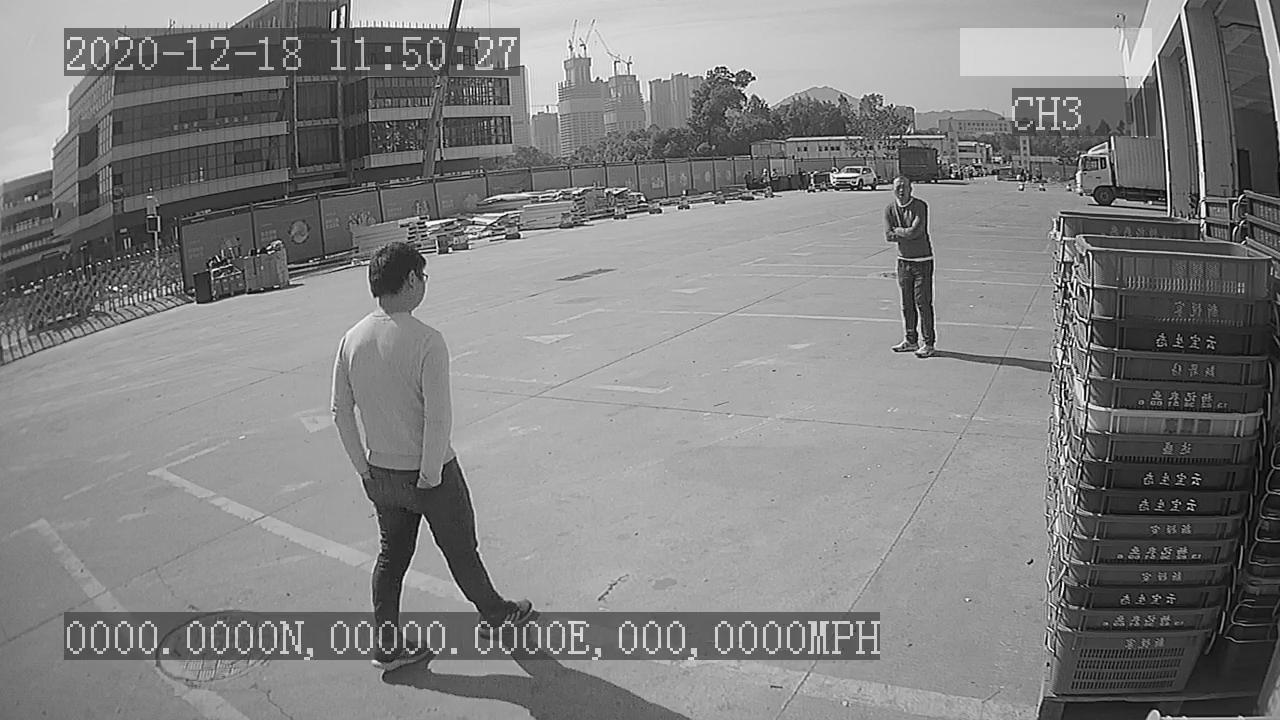person: (879, 174, 945, 363)
